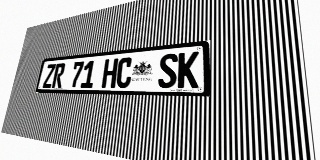1: (80, 60, 96, 88)
7: (69, 61, 84, 88)
C: (115, 57, 133, 88)
H: (101, 58, 118, 88)
K: (177, 51, 199, 88)
R: (51, 63, 66, 88)
S: (157, 53, 178, 88)
Z: (42, 64, 56, 88)
